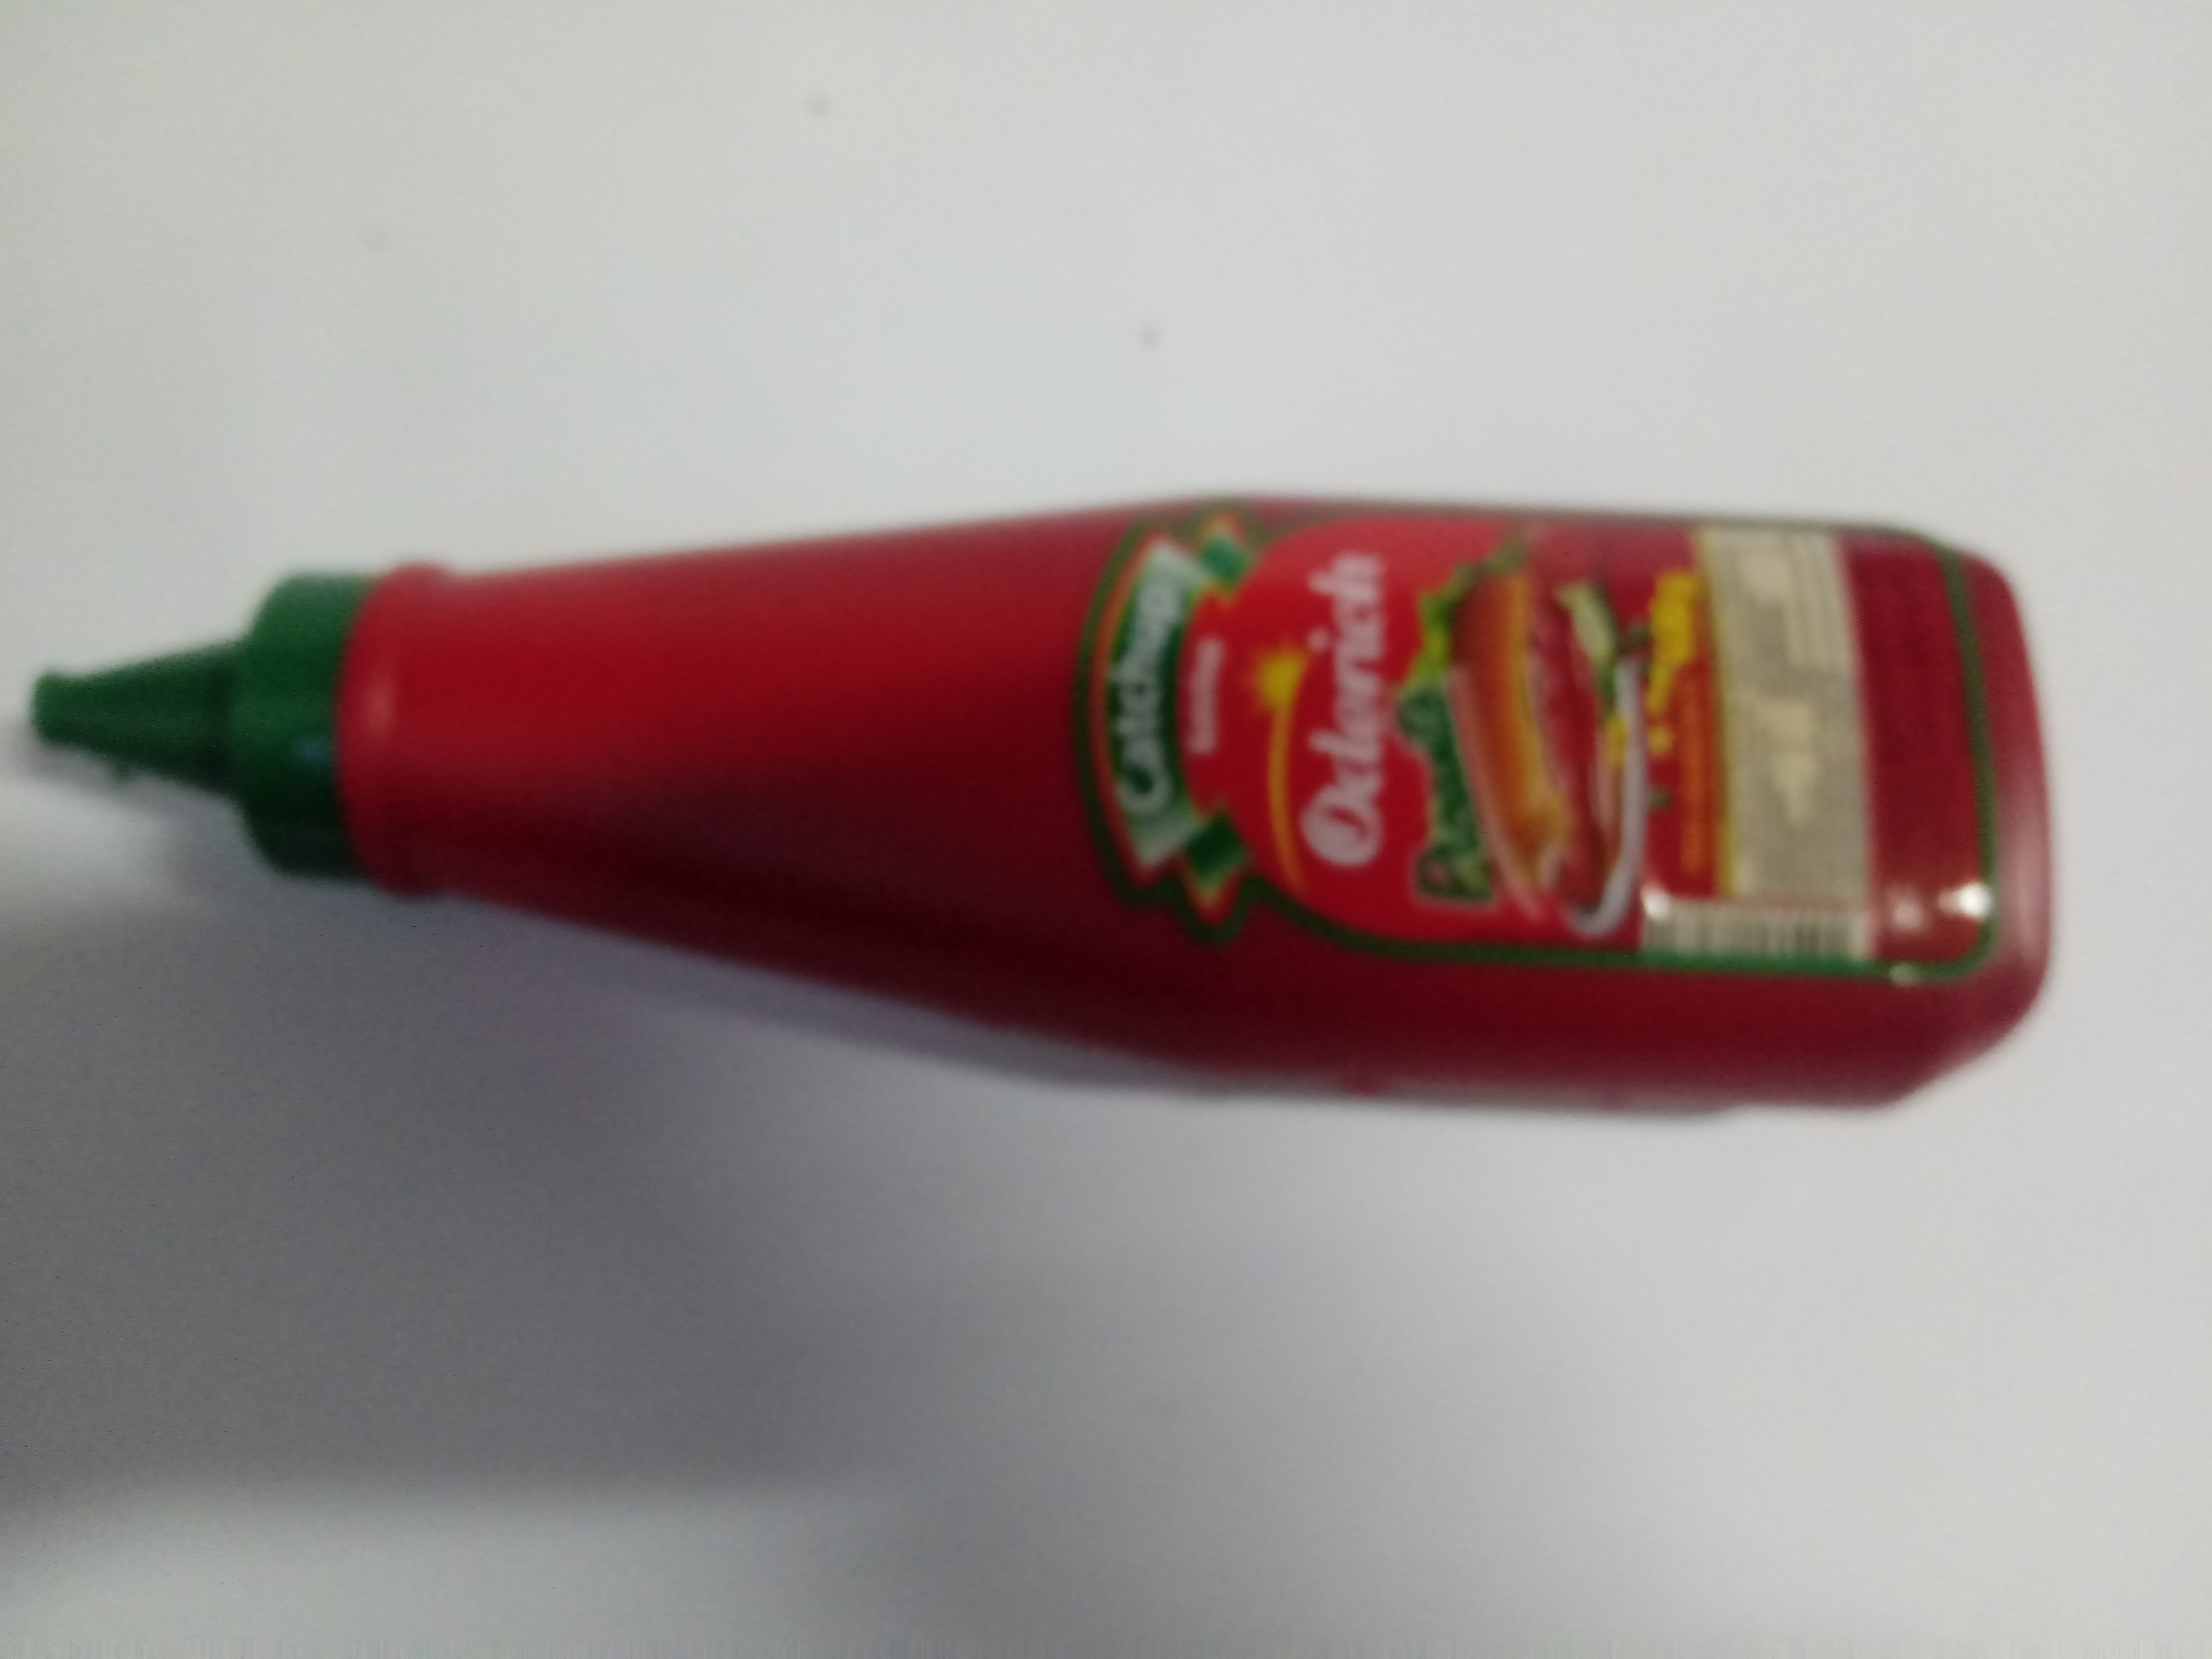catchup-oderich: (12, 458, 2109, 1145)
